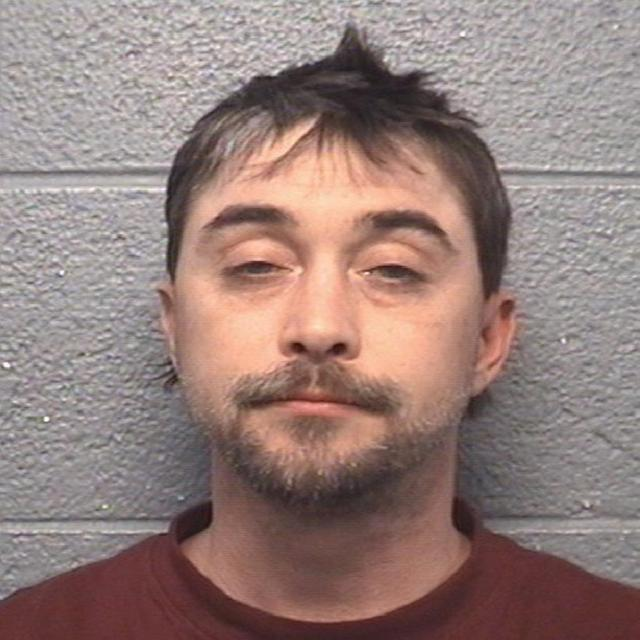Face: (186, 126, 469, 491)
